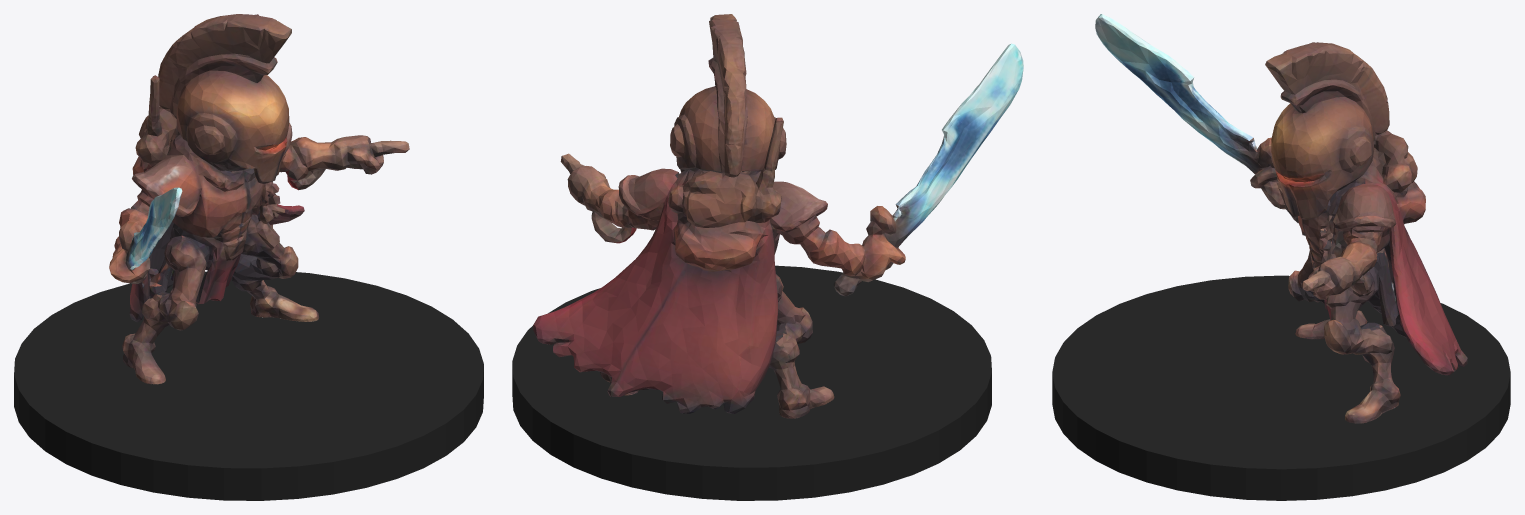
File: hc-sicarian-infiltrator-princeps.glb
The picture shows the model from 3 angles, left to right: view 1: azimuth 30°, elevation 25°; view 2: azimuth 150°, elevation 25°; view 3: azimuth 270°, elevation 25°; orthographic projection. The views are drawn at different scales.
Visible parts, largest first — view 1: base, figure; view 2: figure, base; view 3: base, figure.
Boxes of the visible parts, <box> form: base: <box>14,271,483,500</box>; figure: <box>109,14,409,384</box>; figure: <box>533,14,1023,418</box>; base: <box>512,265,991,500</box>; base: <box>1052,275,1510,500</box>; figure: <box>1095,14,1467,423</box>.
Bounding box in the file's own units: 1.57 × 1.37 × 1.57.
2 materials, 1 textured.
